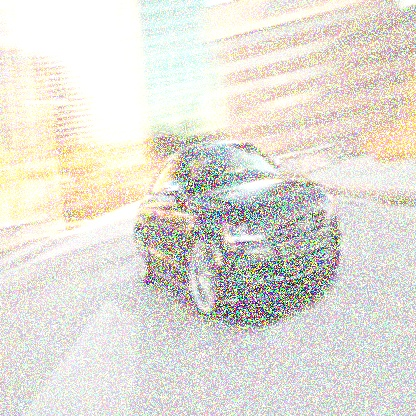Vehicle: (136, 142, 342, 319)
